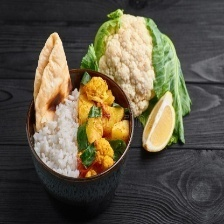roti: (32, 25, 73, 127)
